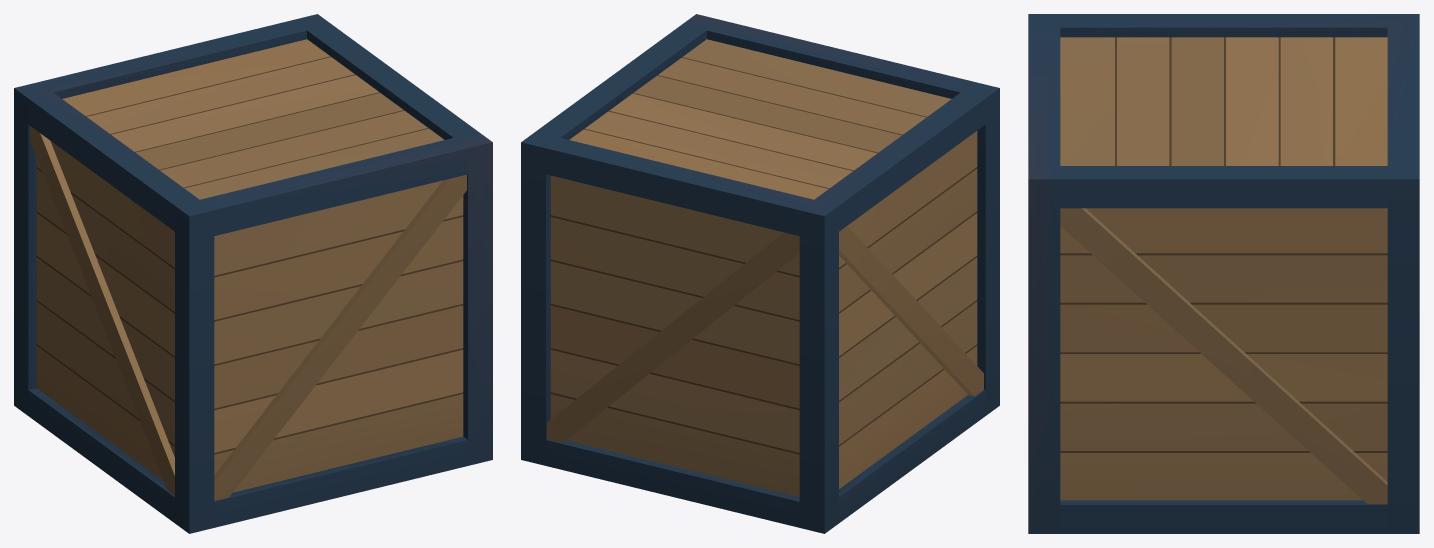
Rendered from crate.framed.blue.glb.
3 views of the same model, side by side, from view 1: azimuth 30°, elevation 25°; view 2: azimuth 150°, elevation 25°; view 3: azimuth 270°, elevation 25° (orthographic). The views are drawn at different scales.
Visible parts, largest first — view 1: crate_framed_blue; view 2: crate_framed_blue; view 3: crate_framed_blue.
Part boxes in pixels (box(x1,y1,x2,y2)): crate_framed_blue: box(14, 14, 492, 533); crate_framed_blue: box(521, 14, 999, 533); crate_framed_blue: box(1028, 14, 1419, 533).
Size of what is drawn, in the model's own units: 1.1 by 1.1 by 1.1.
